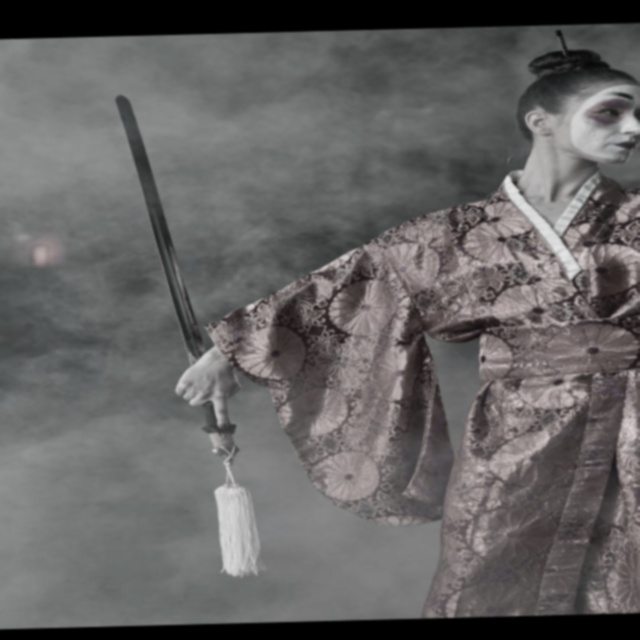Sharp-Object: (101, 85, 253, 474)
